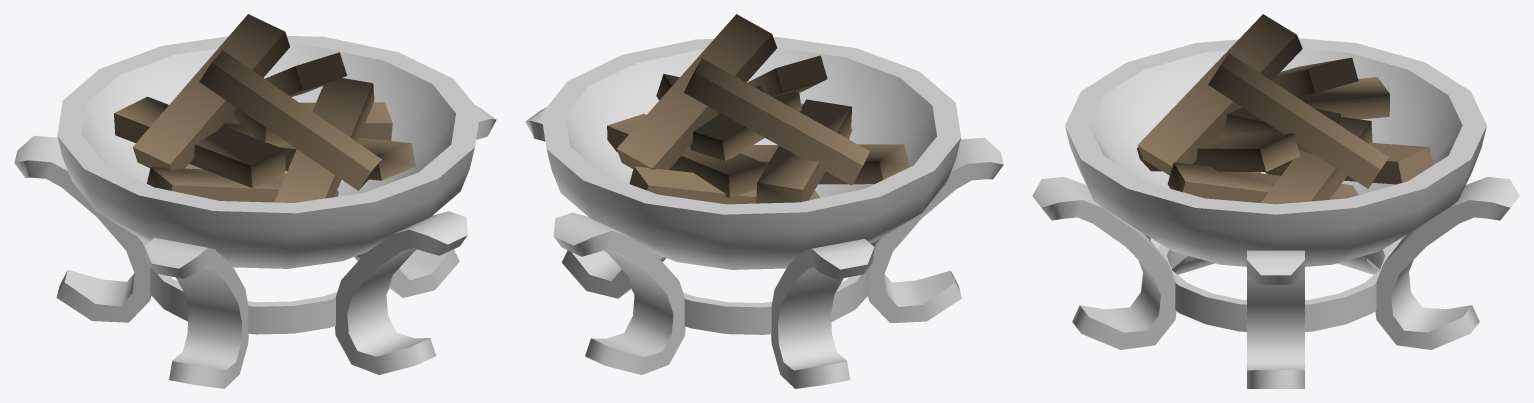
The model's file is torch.fbx.
3 views of the same model, side by side, from view 1: azimuth 30°, elevation 25°; view 2: azimuth 150°, elevation 25°; view 3: azimuth 270°, elevation 25° (orthographic).
Visible parts, largest first — view 1: Cylinder, Cube, Plane.001, Plane.002, Plane.003, Cylinder.001, Plane; view 2: Cylinder, Cube, Plane.004, Plane.003, Plane.002, Cylinder.001, Plane; view 3: Cylinder, Cube, Plane.001, Plane.004, Plane, Cylinder.001, Plane.002, Plane.003.
Part boxes in pixels (x1=…): Cylinder: x1=57, y1=35, x2=480, y2=268; Cube: x1=114, y1=14, x2=415, y2=202; Plane.001: x1=335, y1=211, x2=467, y2=374; Plane.002: x1=144, y1=237, x2=248, y2=388; Plane.003: x1=14, y1=135, x2=151, y2=322; Cylinder.001: x1=150, y1=252, x2=389, y2=334; Plane: x1=355, y1=105, x2=496, y2=297; Cylinder: x1=541, y1=37, x2=960, y2=269; Cube: x1=607, y1=14, x2=909, y2=204; Plane.004: x1=553, y1=212, x2=685, y2=374; Plane.003: x1=771, y1=238, x2=874, y2=388; Plane.002: x1=868, y1=137, x2=1003, y2=323; Cylinder.001: x1=631, y1=254, x2=869, y2=334; Plane: x1=525, y1=107, x2=665, y2=298; Cylinder: x1=1065, y1=38, x2=1486, y2=266; Cube: x1=1137, y1=14, x2=1433, y2=204; Plane.001: x1=1032, y1=177, x2=1176, y2=349; Plane.004: x1=1375, y1=177, x2=1519, y2=349; Plane: x1=1247, y1=250, x2=1304, y2=388; Cylinder.001: x1=1158, y1=244, x2=1393, y2=331; Plane.002: x1=1145, y1=234, x2=1214, y2=274; Plane.003: x1=1337, y1=234, x2=1406, y2=274.
Size of the model in its own units: 0.6561 by 0.4234 by 0.6898.
